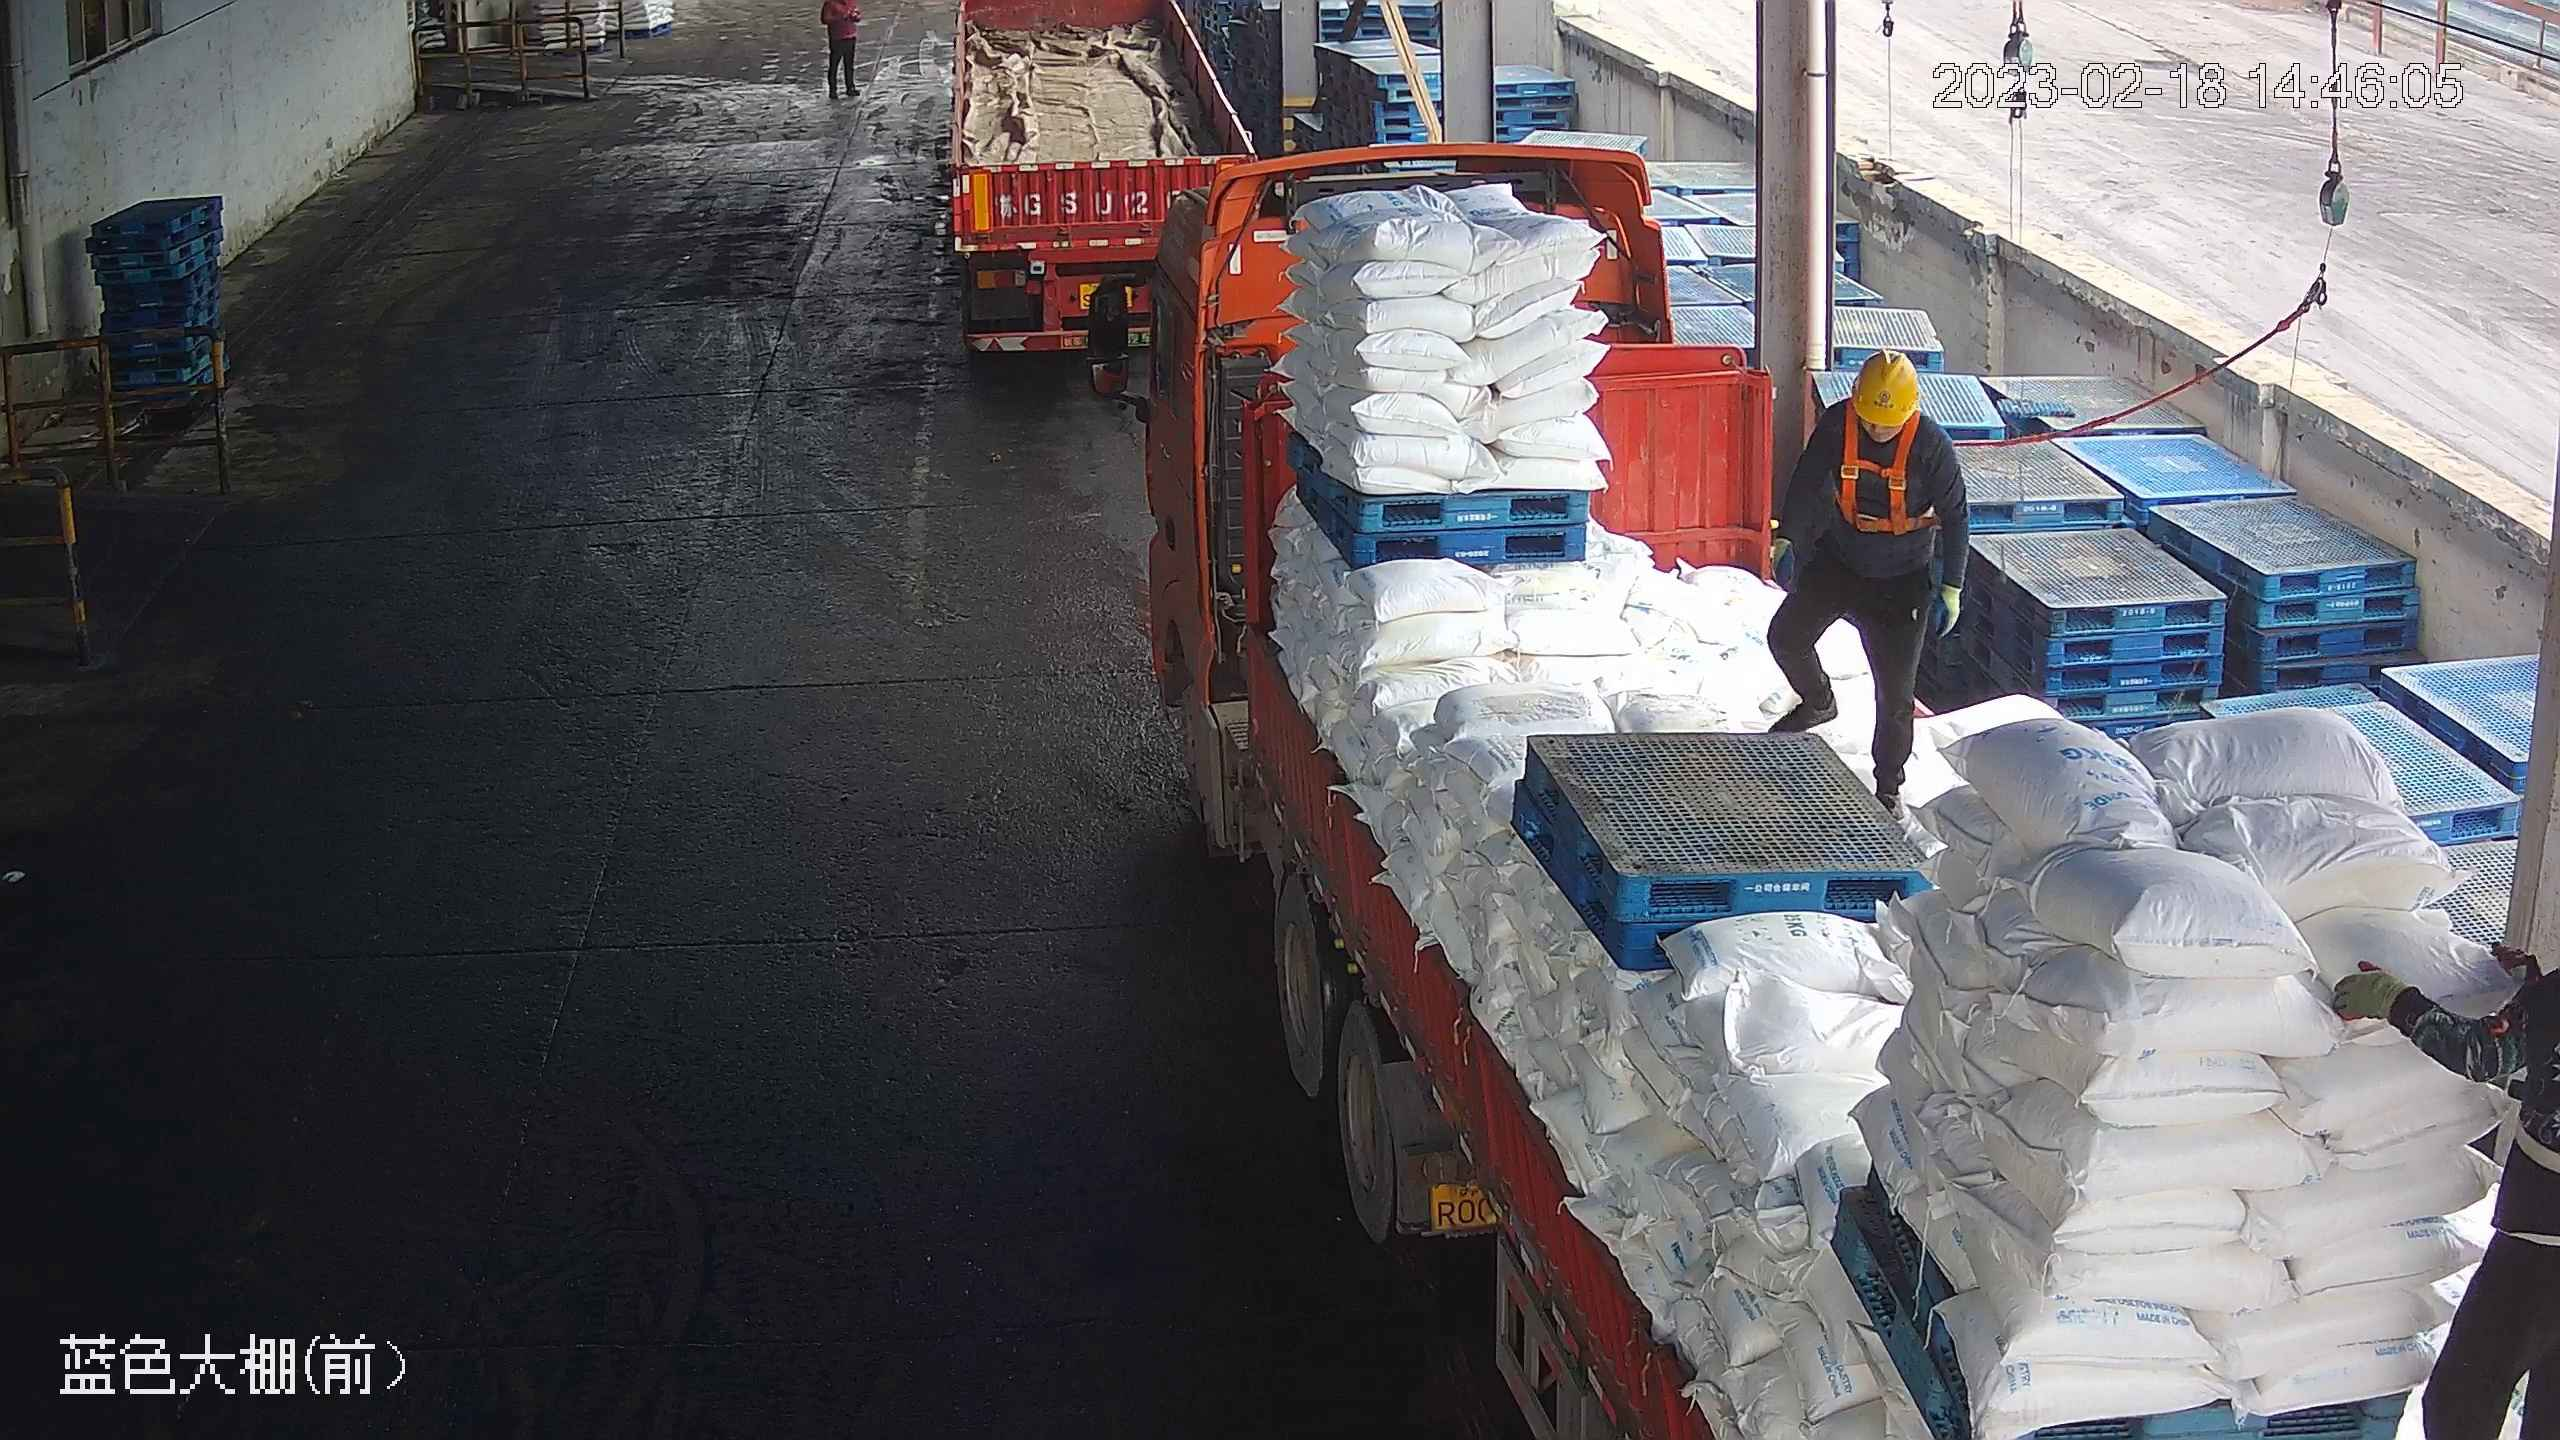belt: (2480, 1047, 2560, 1241), (1832, 410, 1934, 537)
head: (1805, 346, 1959, 473)
helmet: (1850, 345, 1923, 430)
people: (2339, 879, 2559, 1440), (1759, 346, 1972, 810)
truck: (1087, 137, 2553, 1439), (945, 1, 1262, 359)
